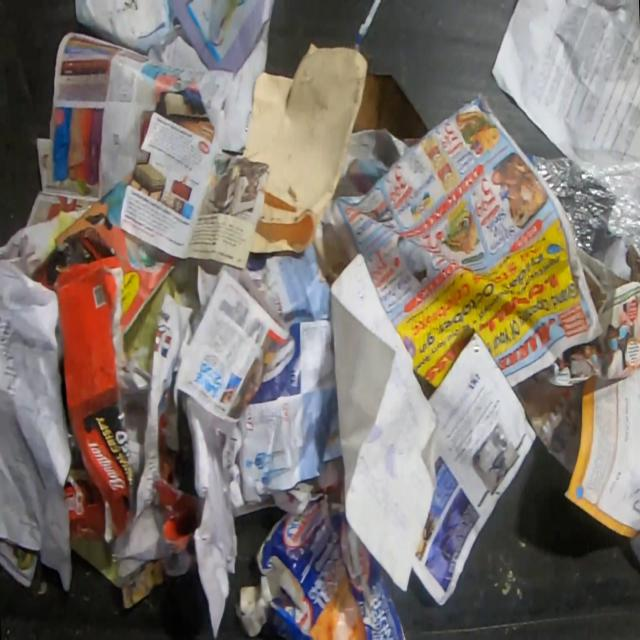cardboard: (235, 479, 408, 639), (49, 255, 144, 546), (352, 71, 430, 147), (152, 477, 204, 554)
soft_plastic: (523, 147, 639, 264)
